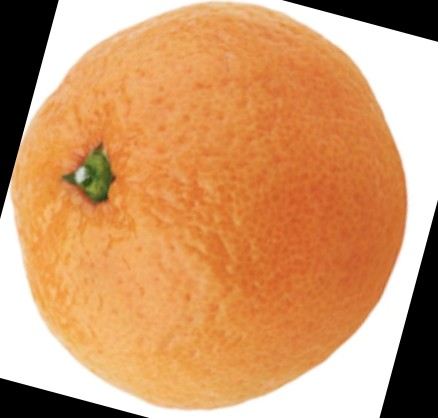fresh_orange: (16, 2, 407, 413)
